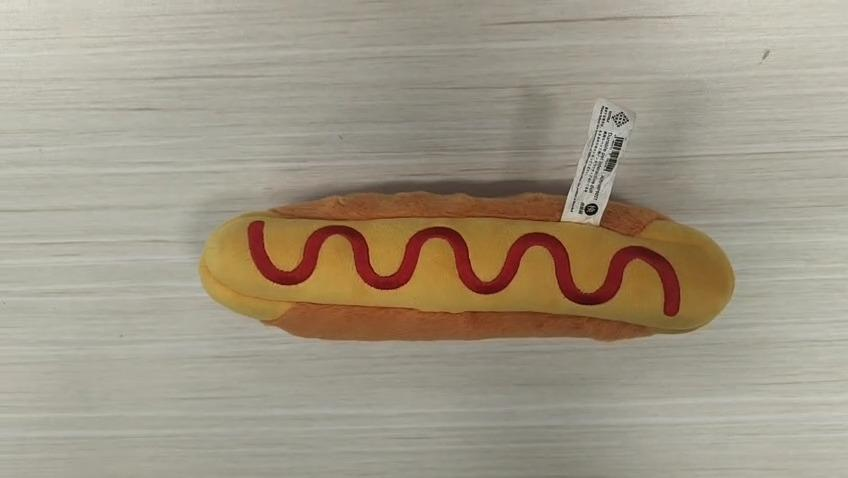hotdog: (198, 188, 736, 342)
